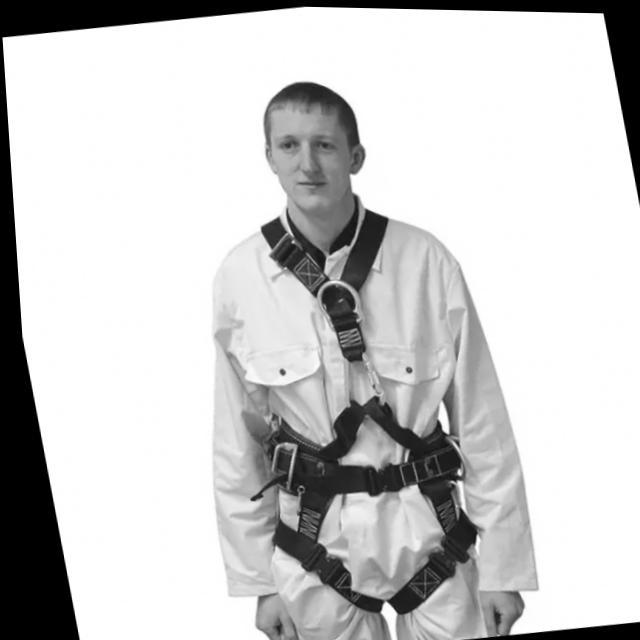belt: (190, 188, 498, 630)
